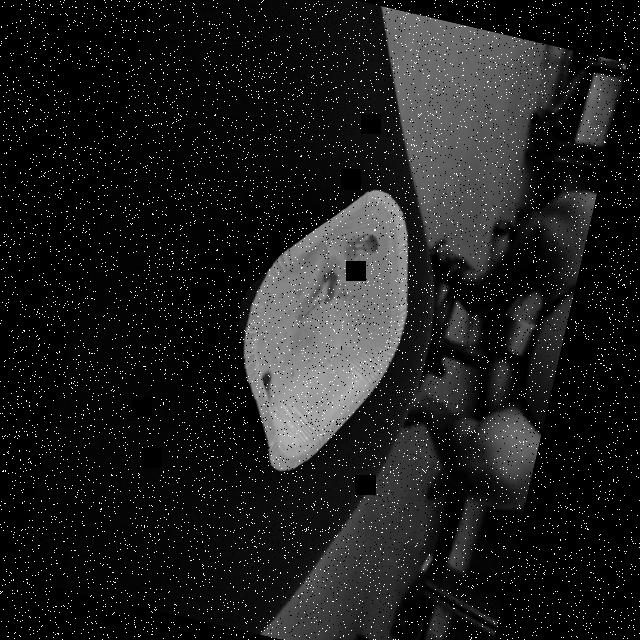cardboard_bowl: (199, 157, 442, 488)
